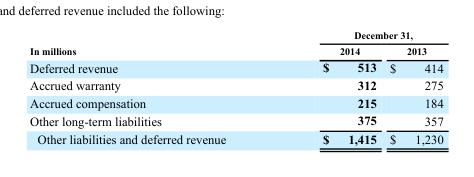table: (29, 28, 442, 146)
table column: (29, 28, 273, 146), (273, 28, 382, 146), (382, 28, 442, 146)
table column header: (29, 28, 442, 58)
table row: (29, 58, 442, 76), (29, 93, 442, 111), (29, 111, 442, 129), (29, 76, 442, 93), (29, 129, 442, 146), (29, 42, 442, 58), (29, 28, 442, 42)
table spanning cell: (29, 28, 273, 58), (273, 28, 442, 42)
